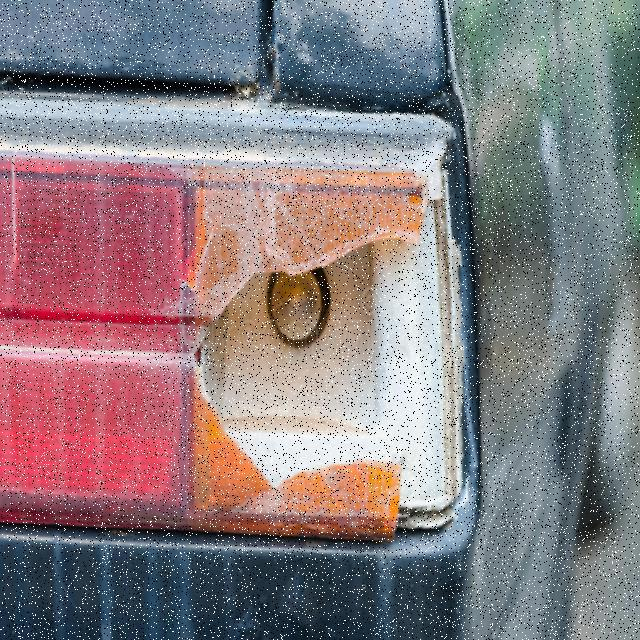Signlight-Damage: (178, 100, 484, 538)
Taillight-Damage: (0, 81, 510, 570)
